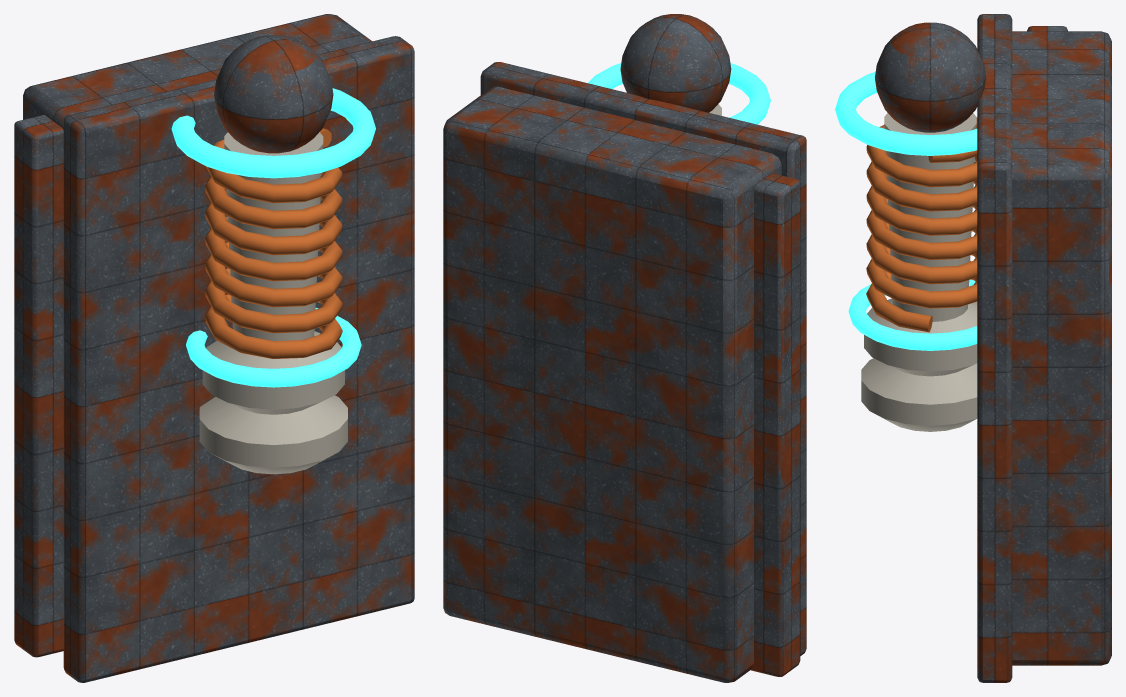
The model's file is electro_trap.glb.
3 renders of one model, left to right at view 1: azimuth 30°, elevation 25°; view 2: azimuth 150°, elevation 25°; view 3: azimuth 270°, elevation 25°, orthographic. The views are drawn at different scales.
Parts seen in each view (by area): view 1: ElectroTrap; view 2: ElectroTrap; view 3: ElectroTrap.
Boxes of the visible parts, x1,y1,x2,y2 form: ElectroTrap: [14, 14, 414, 682]; ElectroTrap: [443, 14, 806, 682]; ElectroTrap: [835, 14, 1111, 682].
Size of the model in its own units: 0.655 by 1.1 by 0.473.
Materials: 4 (1 with a texture image).
